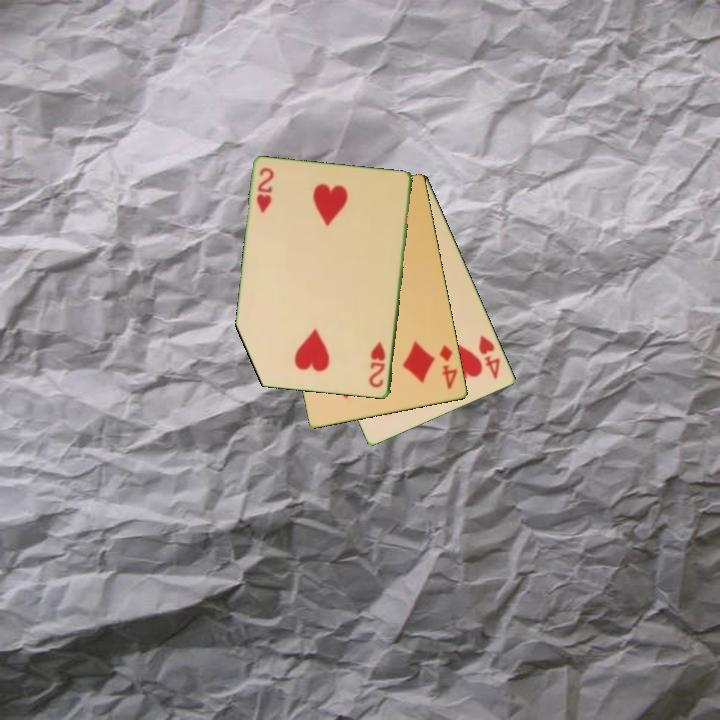2h: (253, 164, 277, 216), (366, 338, 389, 391)
4d: (437, 342, 461, 392)
4h: (475, 332, 503, 382)
